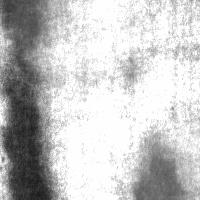patches: (4, 0, 152, 93), (2, 45, 43, 200), (123, 121, 200, 200), (1, 1, 50, 56), (135, 149, 176, 200)
